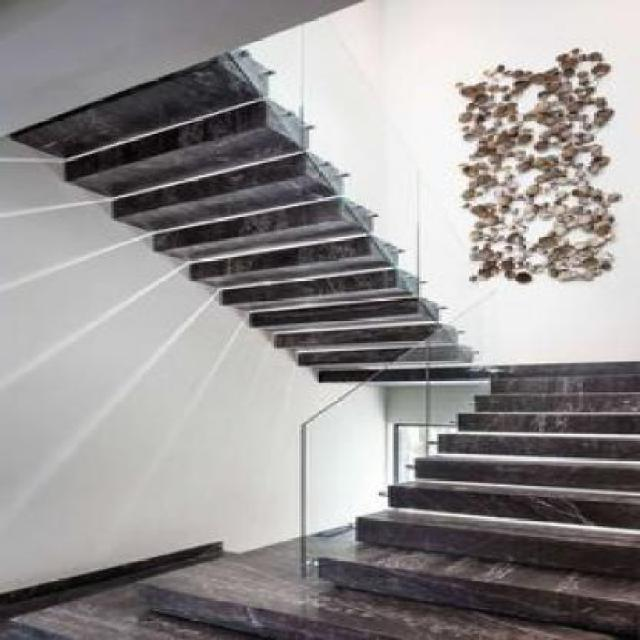stair: (126, 287, 631, 625)
